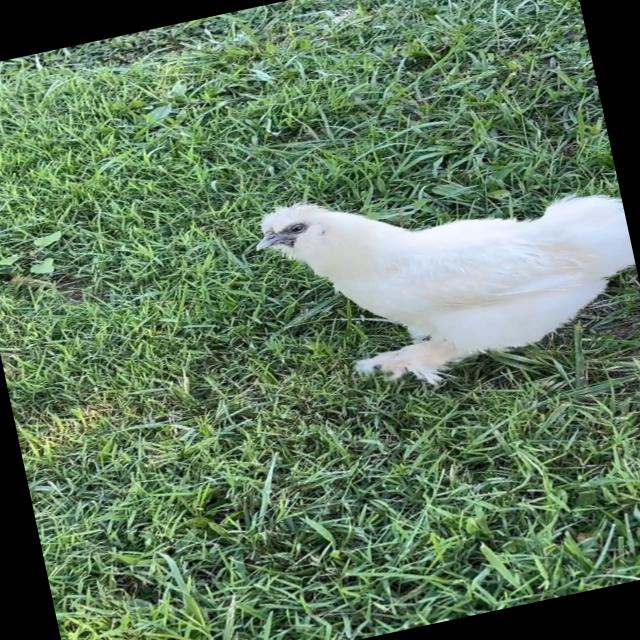menacing: (211, 108, 640, 422)
